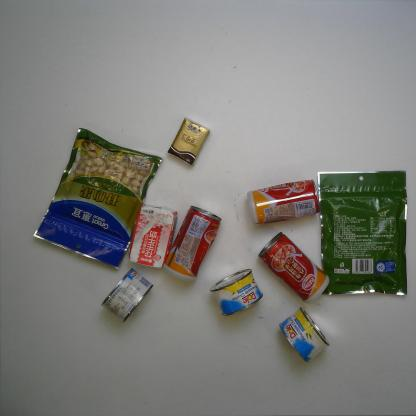Canned Food: (257, 231, 330, 305), (163, 204, 222, 284), (246, 178, 320, 226), (100, 268, 154, 324), (278, 306, 330, 363), (209, 268, 264, 317)
Dried Fruit: (34, 127, 164, 270), (316, 170, 409, 296)
Milk: (129, 201, 178, 269)
Tissue: (166, 116, 210, 166)
